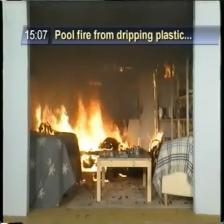fire: (36, 99, 126, 155)
